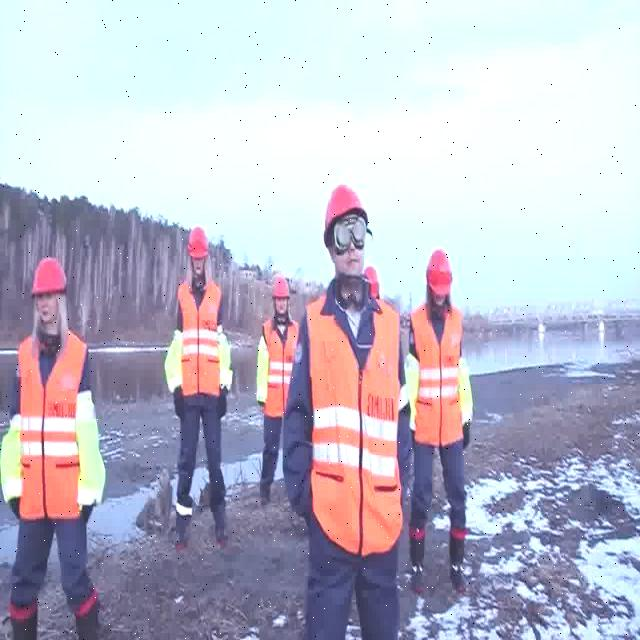Helmet: (324, 186, 366, 234), (33, 254, 70, 296), (426, 249, 452, 297), (188, 228, 208, 258), (364, 267, 380, 300), (271, 279, 293, 299)
Vest: (306, 292, 402, 558), (15, 328, 90, 520), (411, 298, 464, 445), (175, 276, 221, 394), (260, 316, 300, 418)
